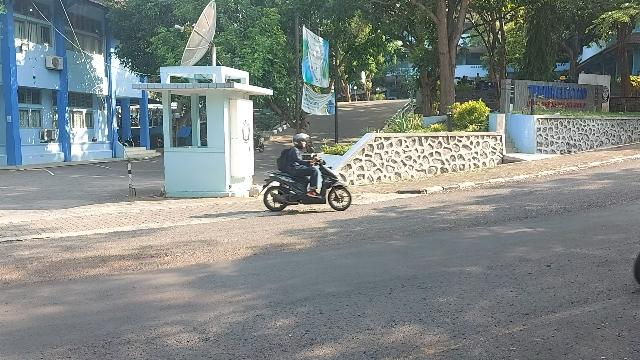helm: (294, 135, 310, 149)
motor: (260, 149, 353, 212)
